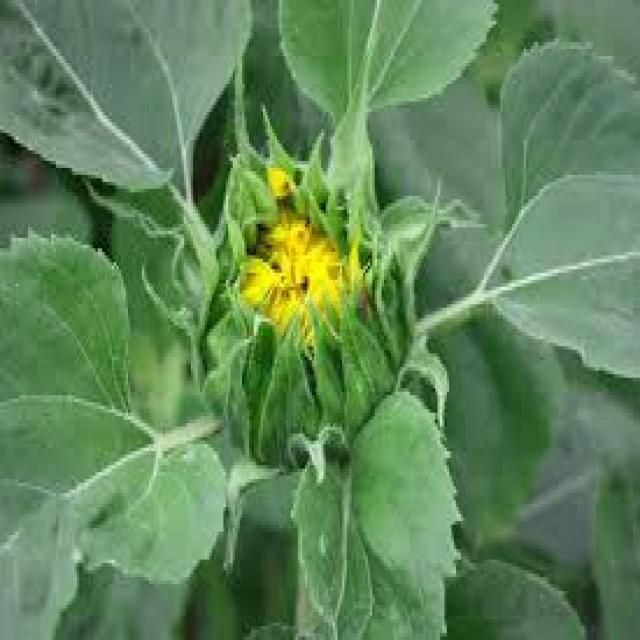Unbloomed: (233, 161, 365, 353)
